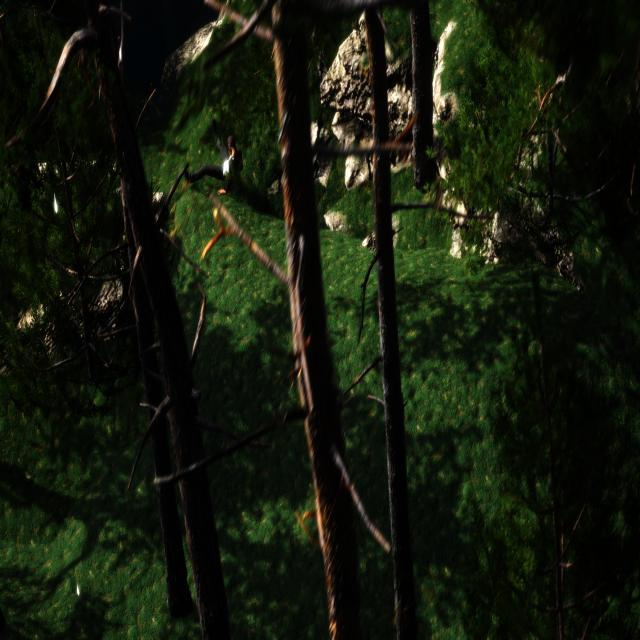Human: (182, 120, 246, 204)
